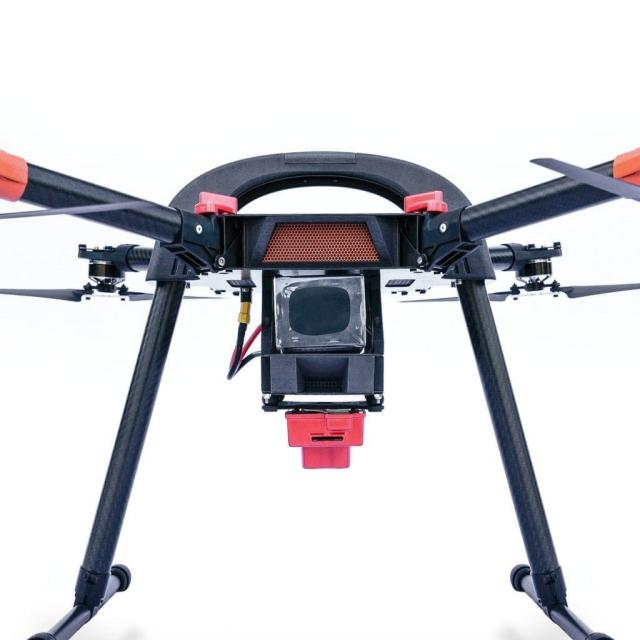drone: (0, 85, 640, 402)
